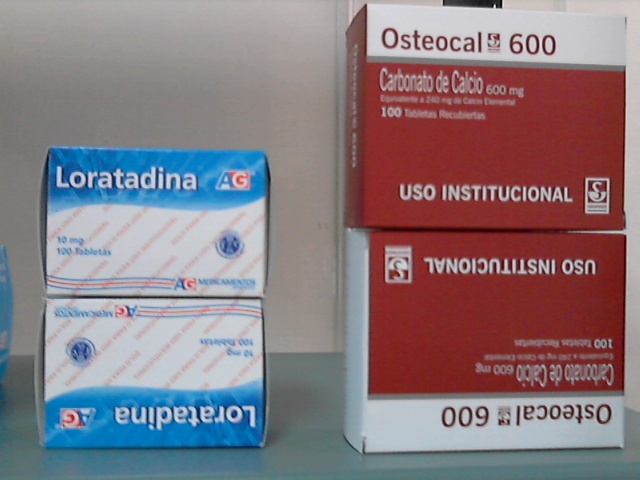AG: (48, 148, 265, 298), (47, 299, 264, 446)
